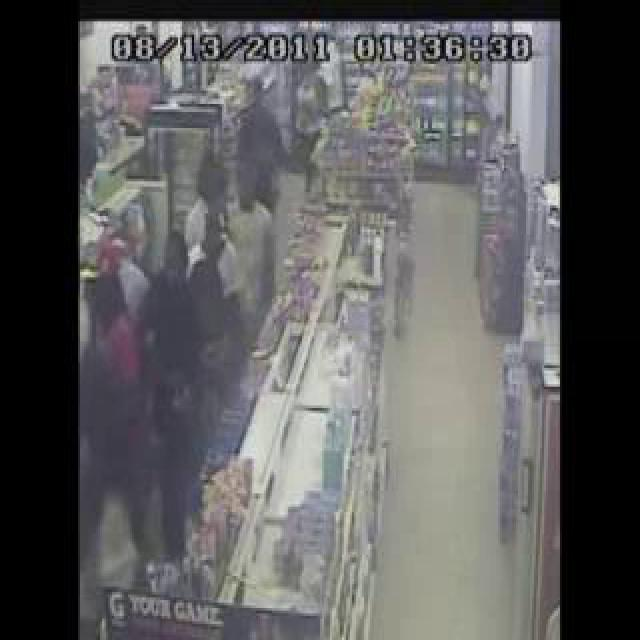burglary: (85, 105, 288, 640)
